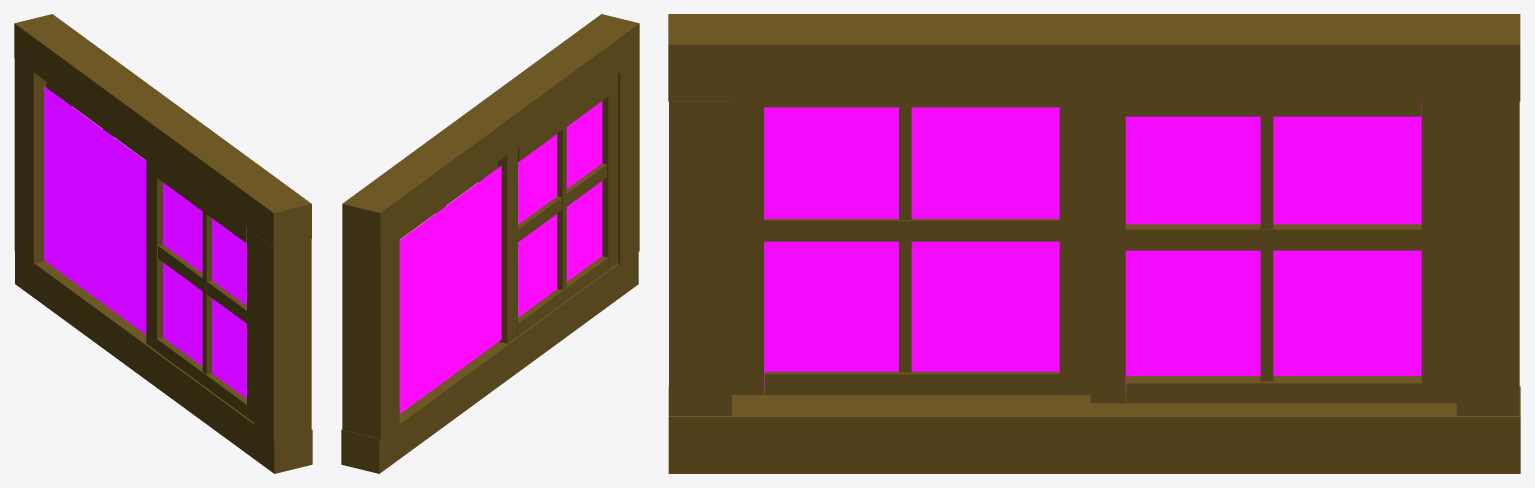
Rendered from window.glb.
3 views of the same model, side by side, from view 1: azimuth 30°, elevation 25°; view 2: azimuth 150°, elevation 25°; view 3: azimuth 270°, elevation 25° (orthographic). The views are drawn at different scales.
Visible parts, largest first — view 1: Plane.006, Cube.009, Cube.025, Cube.024, Cube.026, Cube.013, Cube.017, Cube.018, Cube.015, Cube.014, Cube.016, Cube.023; view 2: Plane.006, Cube.009, Cube.025, Cube.026, Cube.024, Cube.013, Cube.014, Cube.017, Cube.018, Cube.015, Cube.016, Cube.023; view 3: Plane.006, Cube.009, Cube.025, Cube.026, Cube.024, Cube.021, Cube.010, Cube.013, Cube.014, Cube.022, Cube.020, Cube.017 (+5 smaller).
Boxes of the visible parts, x1,y1,x2,y2 form: Plane.006: [44, 86, 246, 398]; Cube.009: [14, 14, 311, 247]; Cube.025: [15, 252, 312, 473]; Cube.024: [254, 234, 311, 440]; Cube.026: [14, 58, 71, 264]; Cube.013: [146, 155, 162, 350]; Cube.017: [156, 337, 246, 417]; Cube.018: [158, 244, 246, 323]; Cube.015: [202, 212, 211, 374]; Cube.014: [247, 228, 254, 422]; Cube.016: [156, 162, 246, 242]; Cube.023: [56, 89, 146, 160]; Plane.006: [399, 101, 602, 413]; Cube.009: [342, 14, 639, 247]; Cube.025: [341, 252, 638, 473]; Cube.026: [342, 234, 399, 440]; Cube.024: [618, 58, 639, 265]; Cube.013: [498, 147, 517, 343]; Cube.014: [602, 74, 617, 269]; Cube.017: [517, 256, 607, 335]; Cube.018: [518, 163, 606, 241]; Cube.015: [557, 127, 566, 290]; Cube.016: [518, 80, 609, 161]; Cube.023: [399, 168, 488, 239]; Plane.006: [764, 102, 1421, 387]; Cube.009: [668, 14, 1520, 101]; Cube.025: [668, 386, 1520, 473]; Cube.026: [1456, 101, 1519, 415]; Cube.024: [669, 101, 731, 415]; Cube.021: [1090, 101, 1125, 403]; Cube.010: [1421, 101, 1456, 403]; Cube.013: [1059, 101, 1090, 395]; Cube.014: [732, 101, 763, 394]; Cube.022: [1126, 376, 1421, 403]; Cube.020: [1125, 224, 1421, 250]; Cube.017: [764, 371, 1059, 394].
Bounding box in the file's own units: 0.3596 × 2.3 × 4.14.
